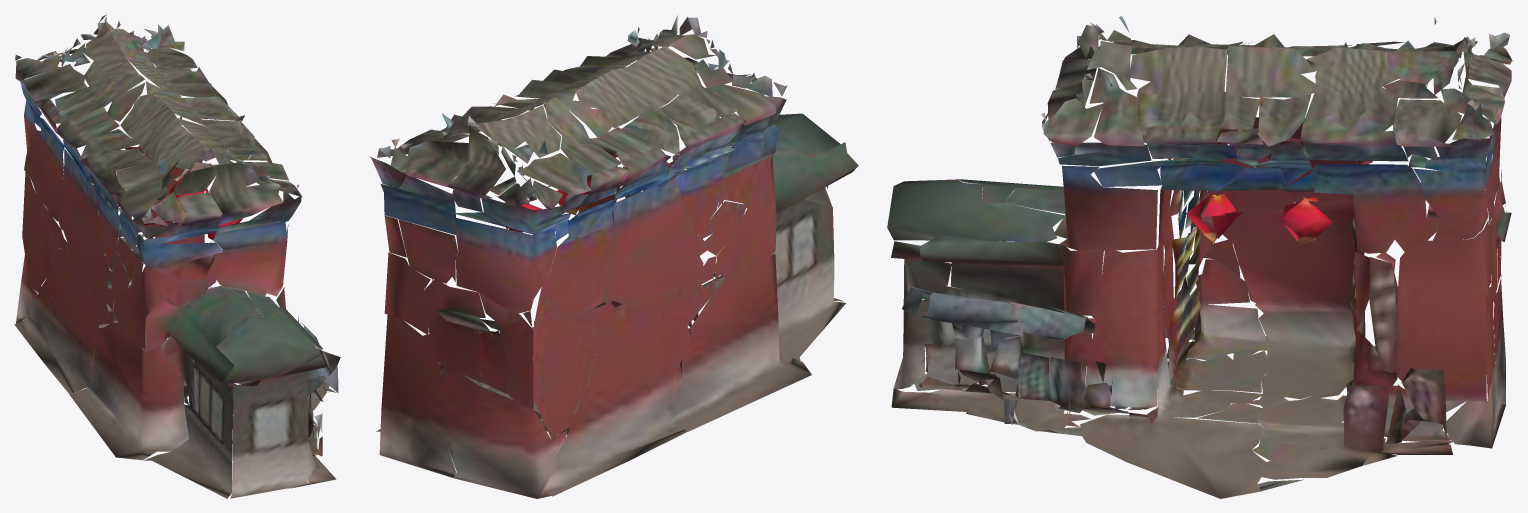
The model's file is preview.glb.
3 views of the same model, side by side, from view 1: azimuth 30°, elevation 25°; view 2: azimuth 150°, elevation 25°; view 3: azimuth 270°, elevation 25° (orthographic). The views are drawn at different scales.
Visible parts, largest first — view 1: ditan/tripo_node_ea848d5c-6364-4c51-b776-0ca3f63c732a; view 2: ditan/tripo_node_ea848d5c-6364-4c51-b776-0ca3f63c732a; view 3: ditan/tripo_node_ea848d5c-6364-4c51-b776-0ca3f63c732a.
Part boxes in pixels (x1,y1,x2,y2): ditan/tripo_node_ea848d5c-6364-4c51-b776-0ca3f63c732a: (14, 14, 340, 498); ditan/tripo_node_ea848d5c-6364-4c51-b776-0ca3f63c732a: (370, 15, 858, 498); ditan/tripo_node_ea848d5c-6364-4c51-b776-0ca3f63c732a: (887, 16, 1512, 498).
Bounding box in the file's own units: 0.3084 × 0.3228 × 0.4788.
1 material, 1 textured.
